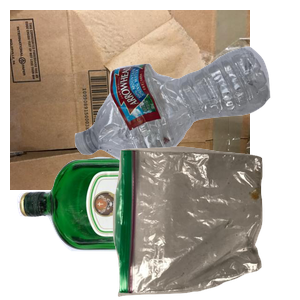cardboard: (10, 10, 250, 190)
glass: (14, 150, 247, 300)
plastic: (72, 44, 300, 200)
trash: (110, 144, 300, 300)
